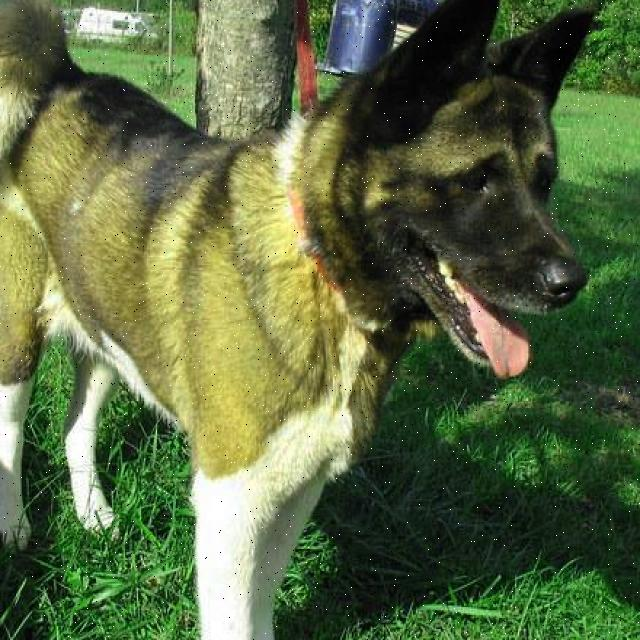Dog: (301, 0, 617, 405)
